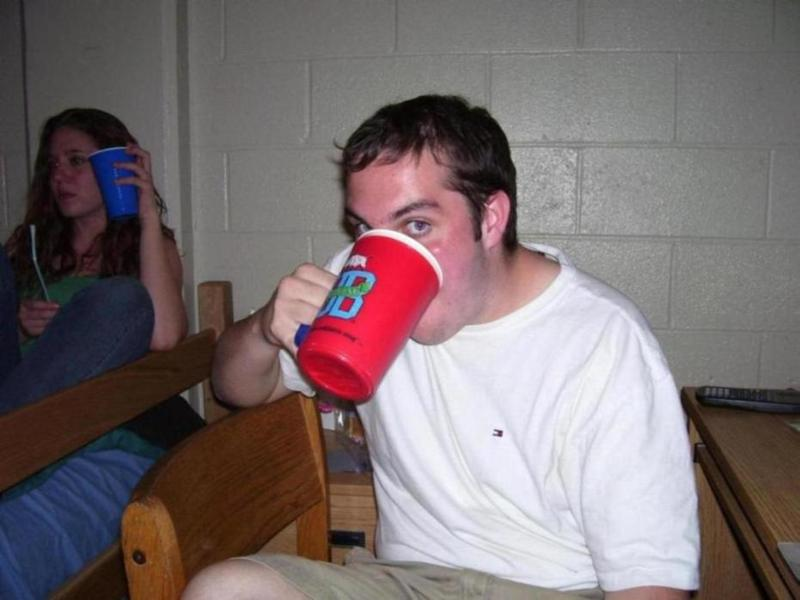person: (180, 95, 707, 599)
